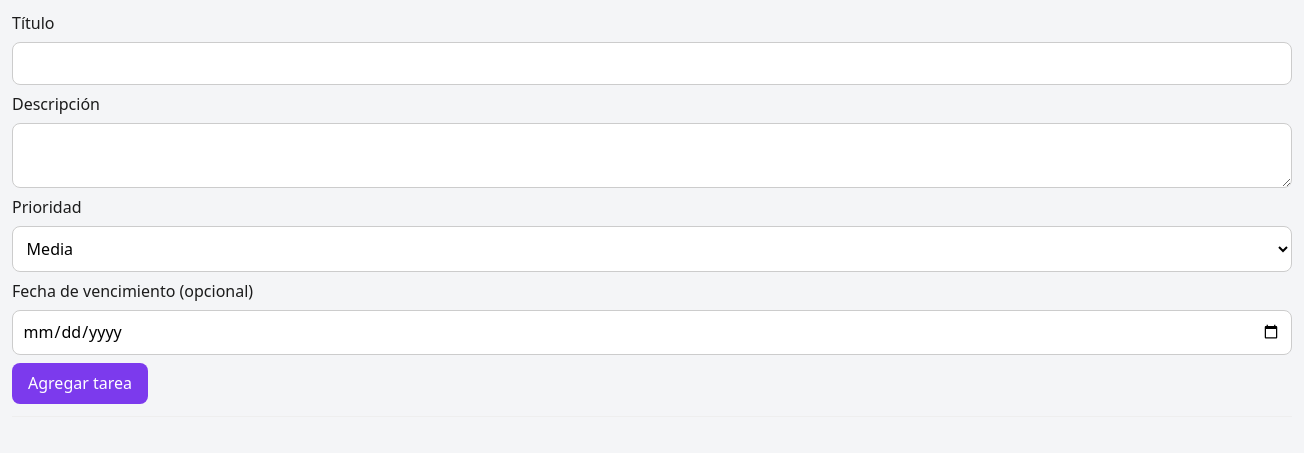
Test case: TodoForm › muestra error y no envía si el título está vacío
Click the button "Agregar tarea": point(80, 383) [12, 363, 148, 404]
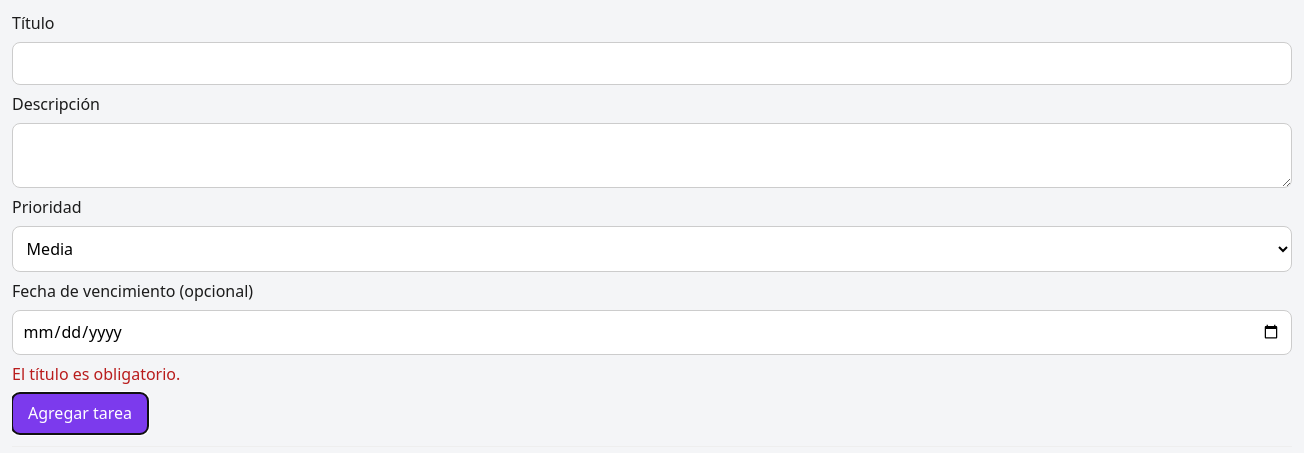
expect the message reads "El título es obligatorio.": met, box [12, 363, 180, 385]
